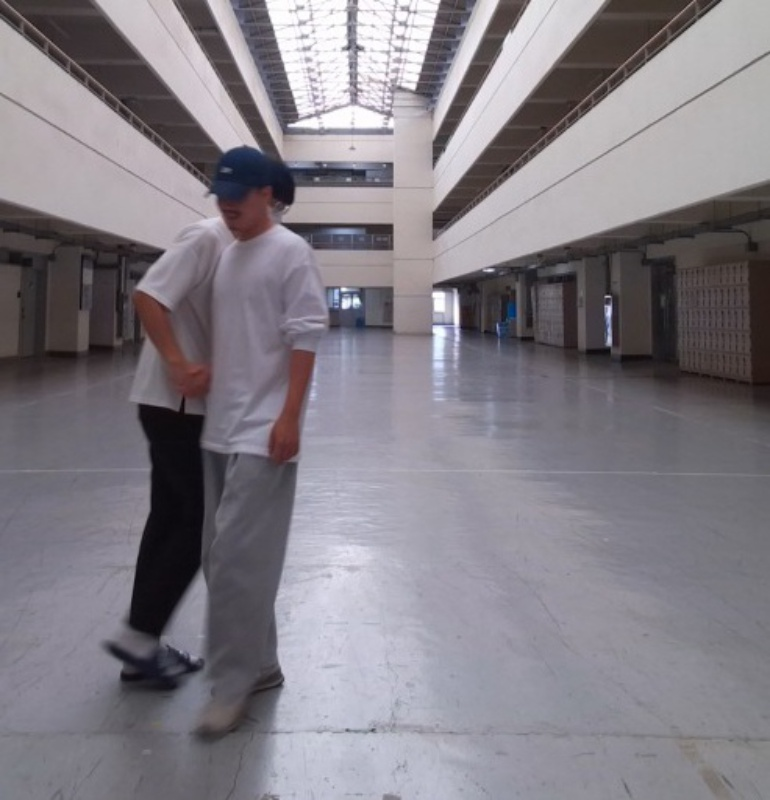person: (191, 143, 331, 740)
